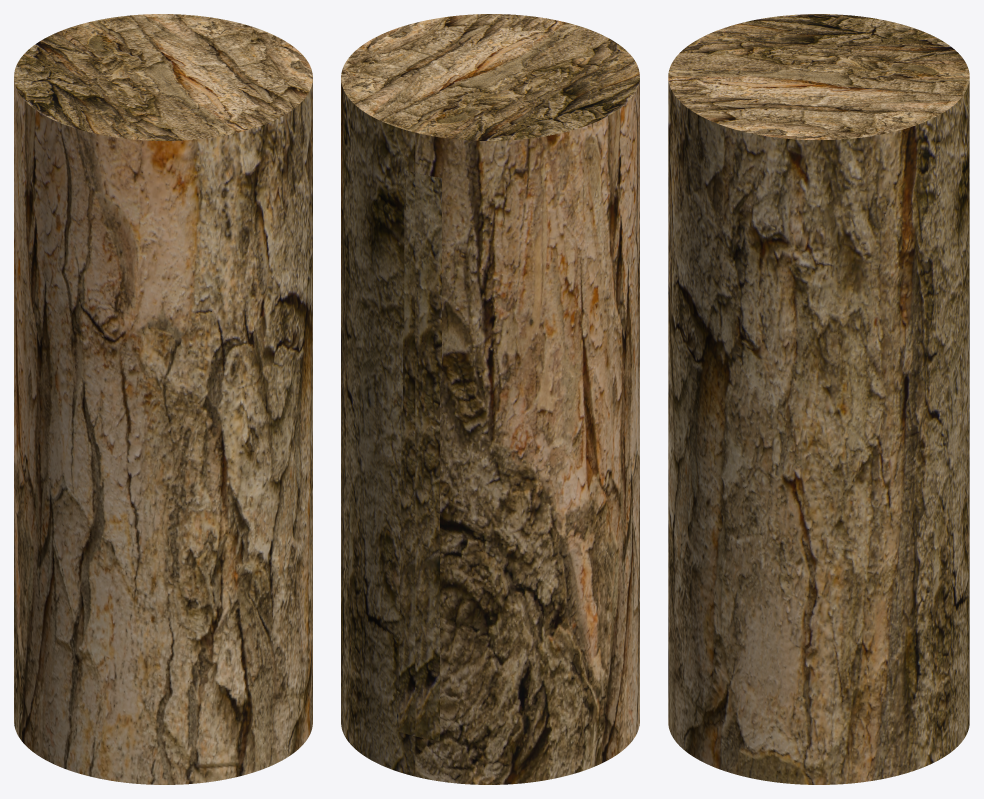
The model's file is bark 1.fbx.
3 renders of one model, left to right at view 1: azimuth 30°, elevation 25°; view 2: azimuth 150°, elevation 25°; view 3: azimuth 270°, elevation 25°, orthographic.
Parts seen in each view (by area): view 1: Cylinder; view 2: Cylinder; view 3: Cylinder.
Part boxes in pixels (<box>): Cylinder: <box>14,14,312,784</box>; Cylinder: <box>341,14,639,784</box>; Cylinder: <box>668,14,969,784</box>.
Bounding box in the file's own units: 106 × 252 × 107.
Materials: 1 (1 with a texture image).
